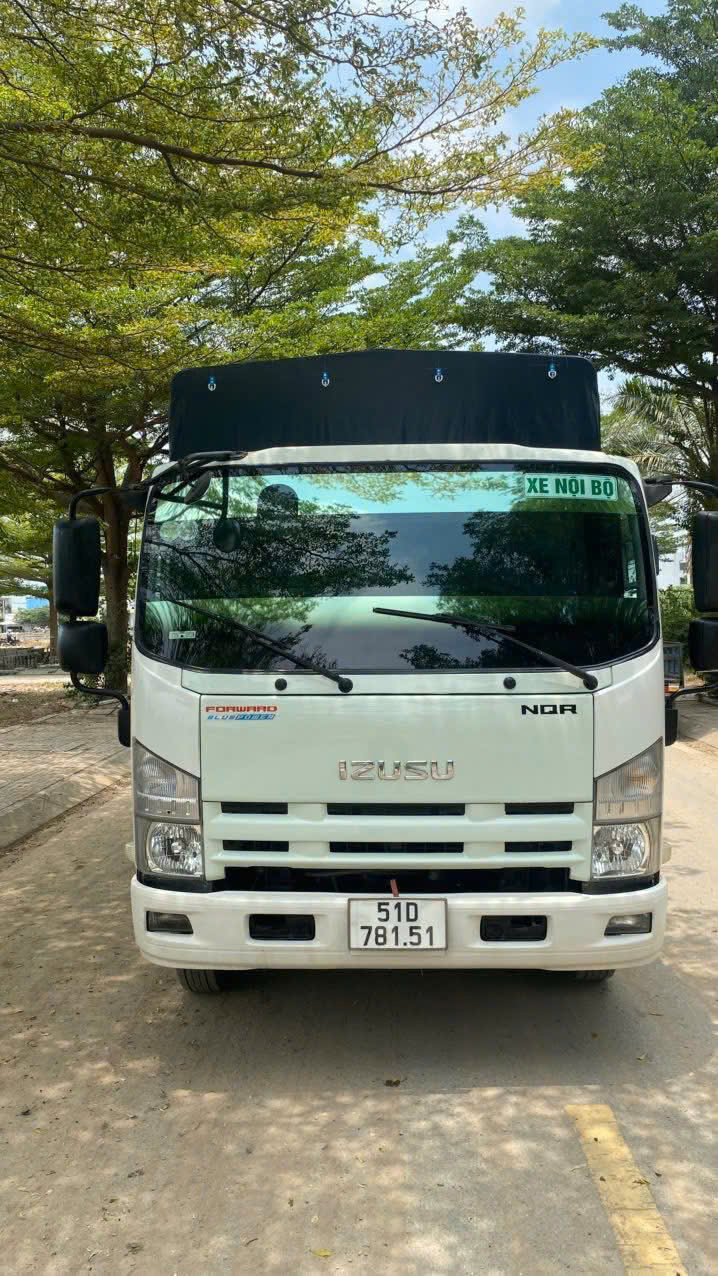Bien-so: (346, 893, 454, 960)
